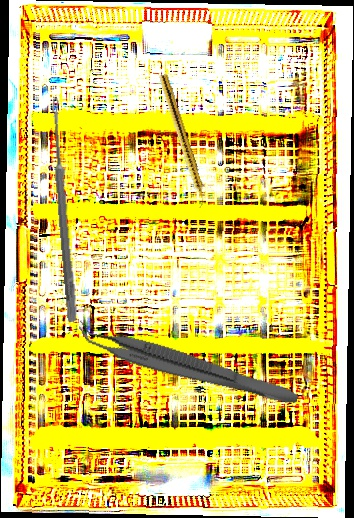Handpiece: (155, 73, 211, 209)
Surgical Spoon: (48, 96, 79, 323)
Tissue Forceps: (72, 318, 304, 409)
